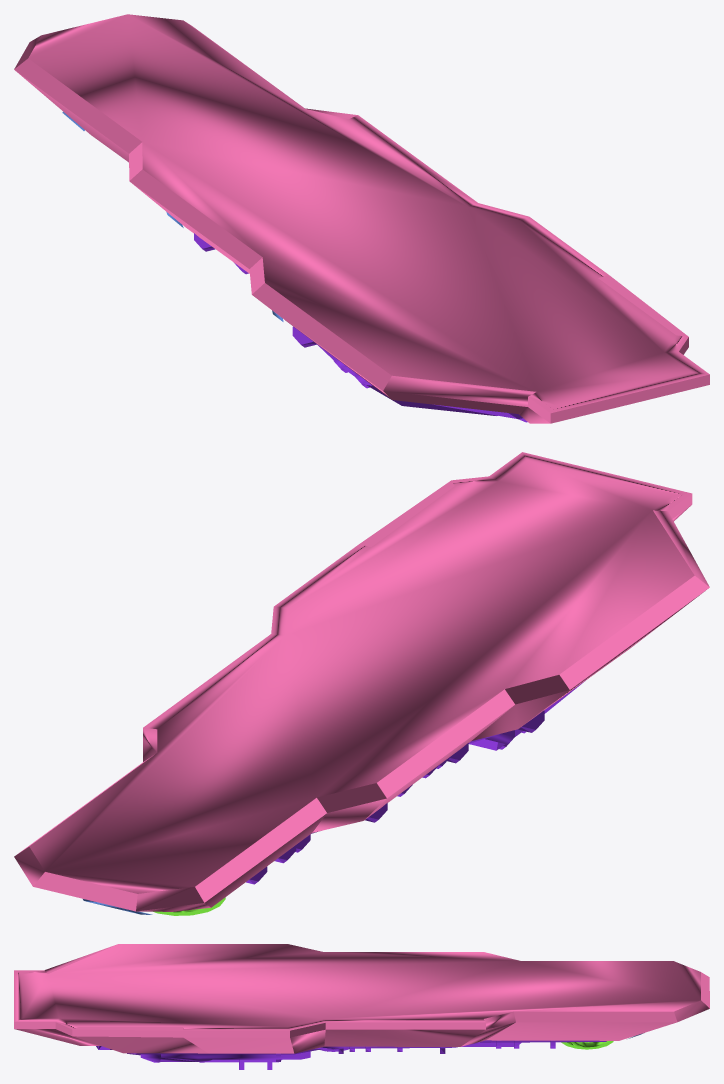
The model's file is plate_f_base.glb.
The picture shows the model from 3 angles, top to bottom: view 1: azimuth 30°, elevation 25°; view 2: azimuth 150°, elevation 25°; view 3: azimuth 270°, elevation 25°; orthographic projection. The views are drawn at different scales.
Bounding box in the file's own units: 115 × 37.54 × 374.
